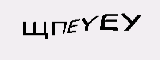Е: (97, 13, 121, 32), (67, 19, 80, 35)
П: (52, 20, 67, 37)
У: (119, 12, 141, 33)
Щ: (20, 20, 49, 39)
Ү: (80, 15, 97, 32)
